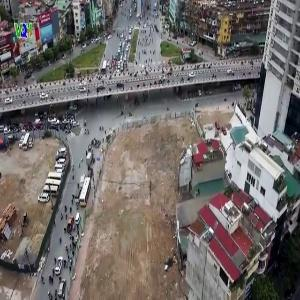drone: (152, 244, 188, 280)
